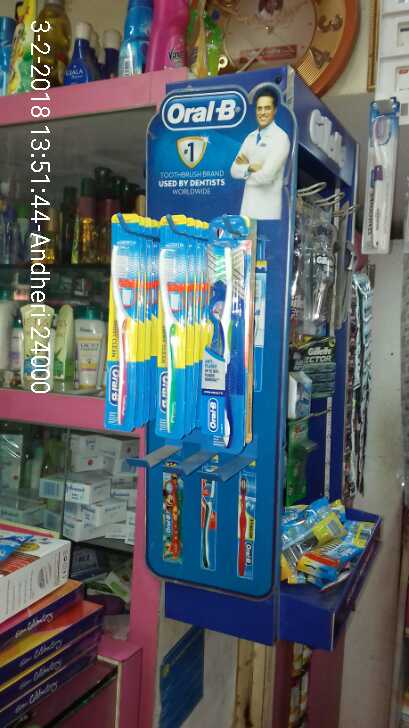oralb: (206, 212, 246, 449), (97, 212, 135, 433), (151, 212, 187, 439)
